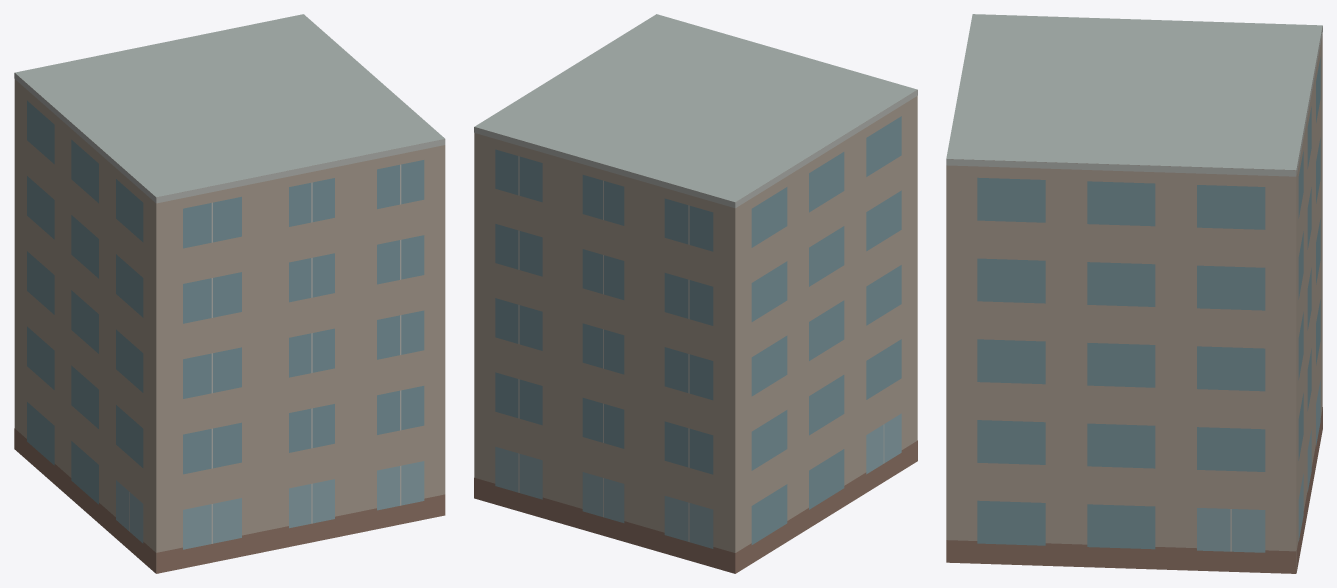
File: survey-upis-32629250.glb
The picture shows the model from 3 angles, left to right: view 1: azimuth 30°, elevation 25°; view 2: azimuth 150°, elevation 25°; view 3: azimuth 270°, elevation 25°; orthographic projection. The views are drawn at different scales.
Visible parts, largest first — view 1: survey-upis-32629250.tmp; view 2: survey-upis-32629250.tmp; view 3: survey-upis-32629250.tmp.
Part boxes in pixels (x1=…): survey-upis-32629250.tmp: x1=14, y1=14, x2=445, y2=573; survey-upis-32629250.tmp: x1=474, y1=14, x2=917, y2=573; survey-upis-32629250.tmp: x1=946, y1=14, x2=1322, y2=573.
Bounding box in the file's own units: 12.45 × 15 × 12.69.
